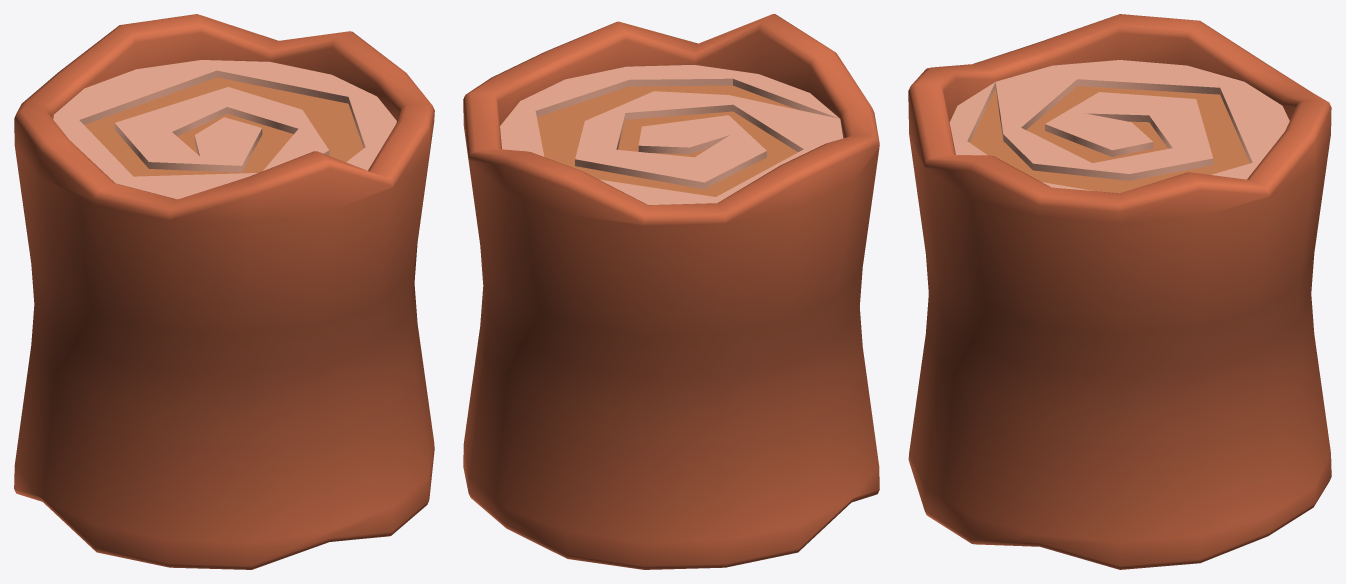
File: Log_V1_00.fbx
The picture shows the model from 3 angles, left to right: view 1: azimuth 30°, elevation 25°; view 2: azimuth 150°, elevation 25°; view 3: azimuth 270°, elevation 25°; orthographic projection.
Visible parts, largest first — view 1: Log_V1_00; view 2: Log_V1_00; view 3: Log_V1_00.
Boxes of the visible parts, left/top/right/bottom form: Log_V1_00: left=14, top=14, right=434, bottom=569; Log_V1_00: left=463, top=14, right=879, bottom=569; Log_V1_00: left=908, top=14, right=1331, bottom=569.
Bounding box in the file's own units: 37.44 × 38.98 × 37.46.
